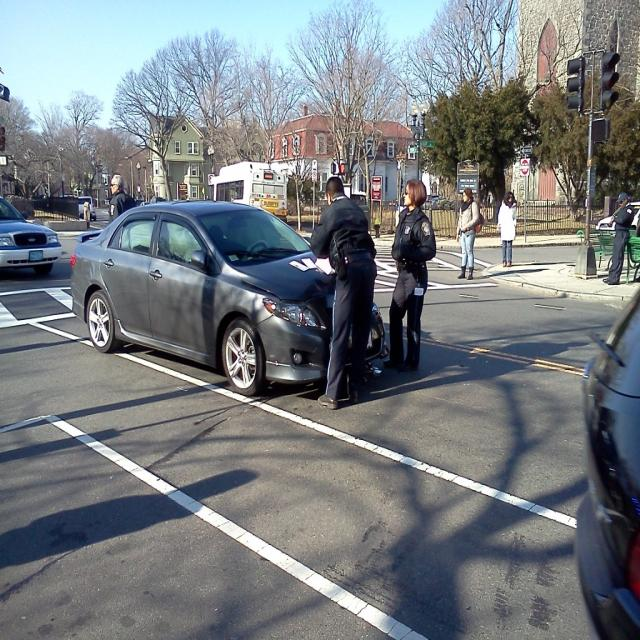dent: (299, 273, 336, 300)
